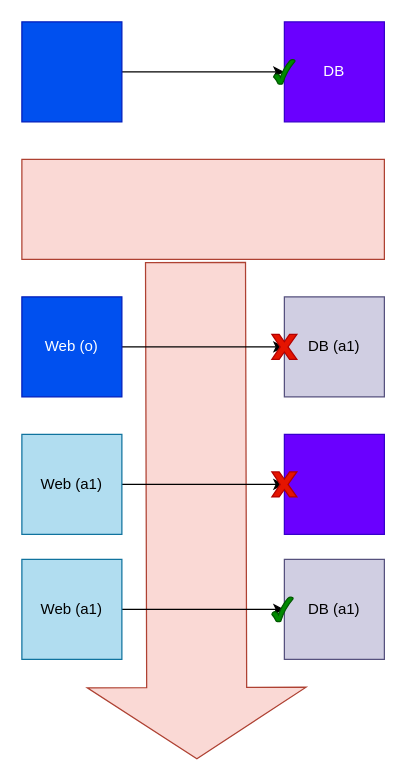
Image size: 406x781. Some labels were removed from this diagram. The box of each missing label's shape, as (x1, y1, x2, y2) in pixels:
Application 1: (21, 158, 384, 259)
DB (o): (283, 433, 384, 534)
Web: (21, 21, 122, 122)
